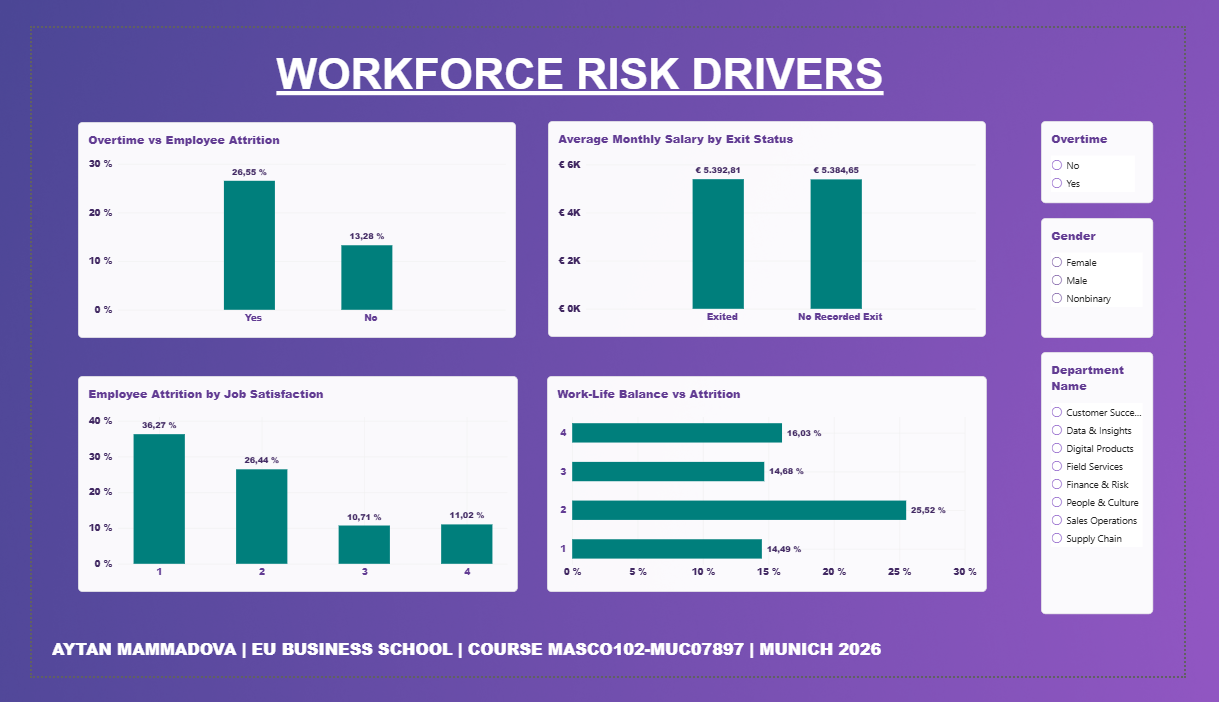

What the dashboard file says about the page in this screenshot:
{"tool":"powerbi","page":{"name":"Workforce Risk Drivers","canvas":[1920,1080],"ordinal":1},"visuals":[{"type":"textbox","box":[77.5,35,1670,120],"z":1000},{"type":"listSlicer","title":"Gender","fields":{"Values":["public vw_employee_retention.gender"]},"box":[1681.7,316.7,186.7,200],"z":7000},{"type":"listSlicer","title":"Overtime","fields":{"Values":["public vw_employee_retention.Overtime Status"]},"box":[1681.7,155,186.7,136.7],"z":8000},{"type":"listSlicer","title":"Department Name","fields":{"Values":["public vw_employee_retention.department_name"]},"box":[1681.7,540,186.7,436.7],"z":9000},{"type":"textbox","box":[33.3,1016.7,1868.3,51.7],"z":10000},{"type":"clusteredColumnChart","title":"Overtime vs Employee Attrition","fields":{"Category":["public vw_employee_retention.Overtime Status"],"Y":["public vw_employee_retention.Attrition %"]},"box":[76.7,156.7,730,360],"z":10001},{"type":"clusteredColumnChart","title":"Employee Attrition by Job Satisfaction","fields":{"Category":["public vw_employee_retention.job_satisfaction"],"Y":["public vw_employee_retention.Attrition %"]},"box":[76.7,580,733.3,360],"z":10002},{"type":"clusteredColumnChart","title":"Average Monthly Salary by Exit Status","fields":{"Category":["public vw_employee_retention.Exit Status"],"Y":["public vw_employee_retention.Average Monthly Salary"]},"box":[860,155,730,360],"z":10003},{"type":"clusteredBarChart","title":"Work-Life Balance vs Attrition","fields":{"Category":["public vw_employee_retention.work_life_balance"],"Y":["public vw_employee_retention.Attrition %"]},"box":[858.3,580,733.3,360],"z":10004}]}

Visuals, with their boxes in screenshot pixels (x1, y1, x2, y2), scaled from the page's 1920x1080 canvas onto the 1219x702 screenshot:
textbox: (49,23,1109,101)
"Gender" listSlicer: (1068,206,1186,336)
"Overtime" listSlicer: (1068,101,1186,190)
"Department Name" listSlicer: (1068,351,1186,635)
textbox: (21,661,1207,694)
"Overtime vs Employee Attrition" clusteredColumnChart: (49,102,512,336)
"Employee Attrition by Job Satisfaction" clusteredColumnChart: (49,377,514,611)
"Average Monthly Salary by Exit Status" clusteredColumnChart: (546,101,1009,335)
"Work-Life Balance vs Attrition" clusteredBarChart: (545,377,1011,611)
